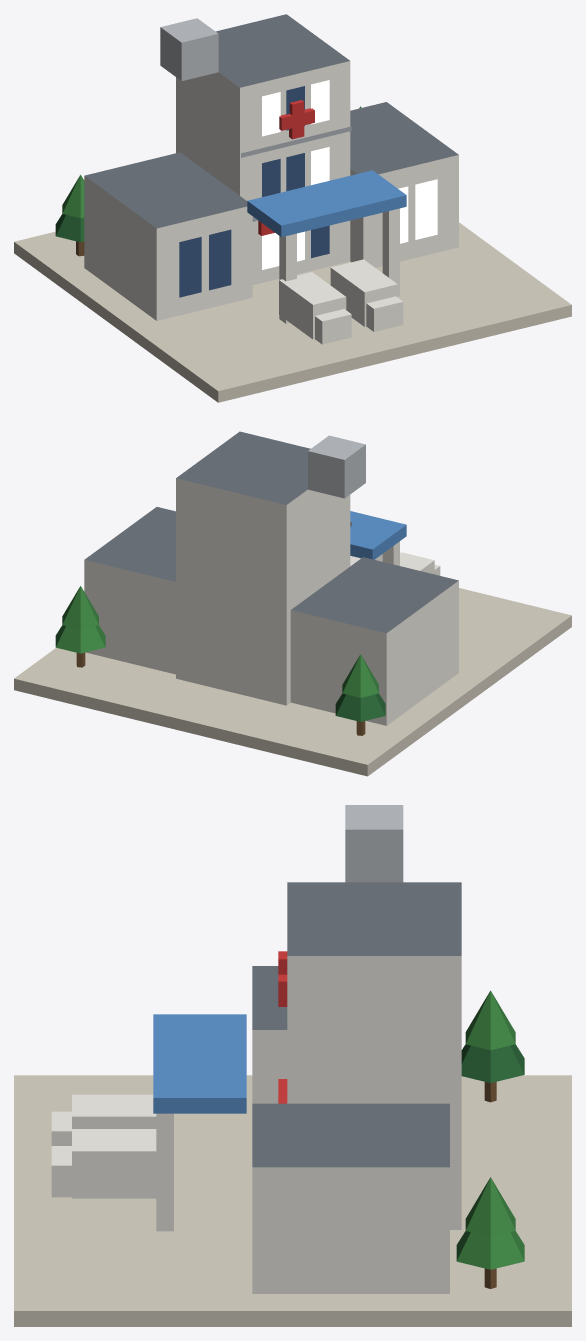
The picture shows the model from 3 angles, top to bottom: view 1: azimuth 30°, elevation 25°; view 2: azimuth 150°, elevation 25°; view 3: azimuth 270°, elevation 25°; orthographic projection. The views are drawn at different scales.
Visible parts, largest first — view 1: b27; view 2: b27; view 3: b27.
Boxes of the visible parts, <box> form: b27: <box>14,14,571,402</box>; b27: <box>14,431,571,776</box>; b27: <box>14,805,571,1326</box>.
Size of the model in its own units: 0.96 by 0.65 by 0.96.
